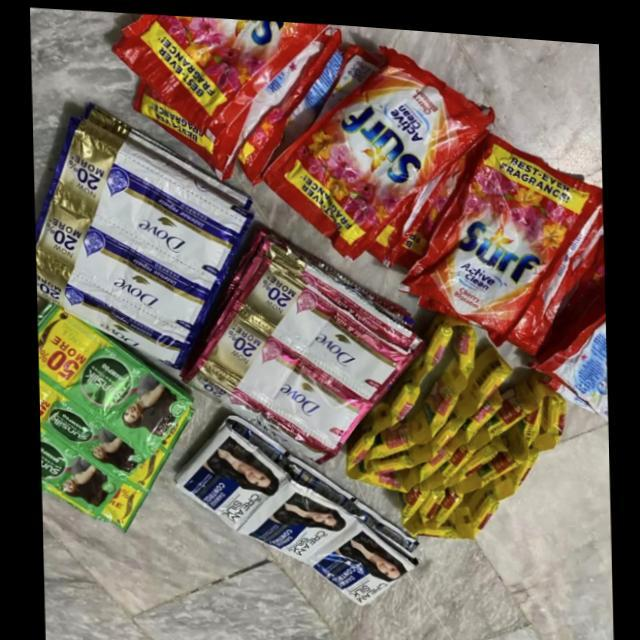plastic_sachet: (260, 39, 494, 258), (404, 127, 602, 337), (45, 116, 250, 291), (133, 21, 345, 180), (36, 200, 215, 370), (224, 249, 415, 405), (113, 11, 329, 137), (190, 311, 367, 453), (38, 303, 193, 456), (39, 378, 144, 518), (172, 418, 290, 529), (367, 144, 468, 264), (299, 515, 416, 604), (236, 475, 360, 556), (533, 300, 608, 415), (450, 337, 512, 413), (421, 345, 464, 430), (481, 370, 538, 430), (470, 418, 527, 477), (368, 403, 428, 456), (438, 419, 491, 478), (406, 411, 463, 458), (412, 317, 454, 379), (457, 383, 501, 436), (373, 377, 419, 427), (494, 443, 538, 491), (345, 459, 419, 487), (466, 472, 500, 528), (406, 502, 473, 530), (539, 374, 569, 431), (428, 486, 463, 525), (344, 424, 373, 470), (419, 479, 446, 520), (522, 388, 541, 438), (457, 322, 474, 375), (371, 450, 413, 469)
